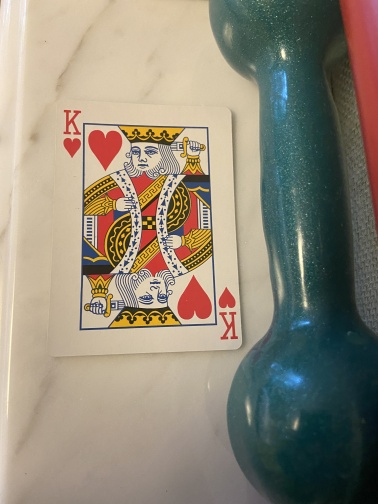king: (45, 100, 244, 358)
